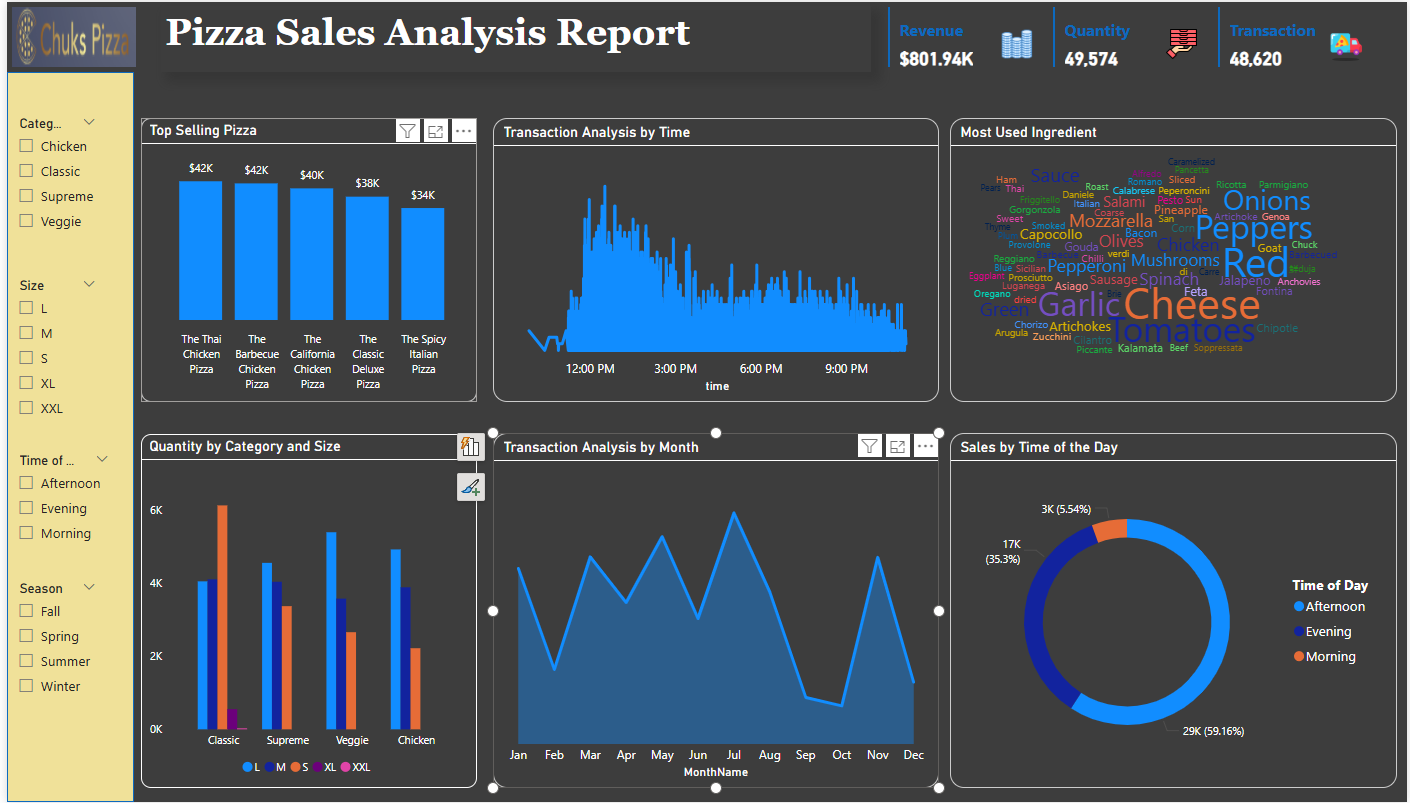

The dashboard page shown, as its layout file describes it:
{"tool":"powerbi","page":{"name":"Pizza","canvas":[1400,800],"ordinal":0},"visuals":[{"type":"shape","box":[0,69.7,127.3,730.3],"z":0},{"type":"cardVisual","fields":{"Data":["_measures.Revenue","_measures.Quantity","_measures.Transaction"]},"box":[875.8,0,499,69.7],"z":1000},{"type":"clusteredColumnChart","title":"Top Selling Pizza","fields":{"Y":["_measures.Revenue"],"Category":["Master.Pizza Name"]},"box":[134.3,116.2,335.4,283.8],"z":2000},{"type":"slicer","fields":{"Values":["Master.Category"]},"box":[0,109.1,101,146.5],"z":3000},{"type":"slicer","fields":{"Values":["Master.Size"]},"box":[0,270.7,101,161.6],"z":4000},{"type":"slicer","fields":{"Values":["Master.Time of Day"]},"box":[0,446.5,114.1,112.1],"z":5000},{"type":"slicer","fields":{"Values":["Master.Season"]},"box":[0,573.7,101,145.5],"z":6000},{"type":"lineChart","title":"Transaction Analysis by Time","fields":{"Y":["_measures.Transaction"],"Category":["Master.time"]},"box":[485.9,116.2,446.5,283.8],"z":7000},{"type":"clusteredColumnChart","fields":{"Category":["Master.Category"],"Y":["_measures.Quantity"],"Series":["Master.Size"]},"box":[134.3,432.3,335.4,353.5],"z":8000},{"type":"WordCloud1447959067750","title":"Most Used Ingredient","fields":{"Category":["Master.Ingredient"],"Values":["_measures.Transaction"]},"box":[943.4,116.2,446.5,283.8],"z":9000},{"type":"areaChart","title":"Transaction Analysis by Month","fields":{"Y":["_measures.Transaction"],"Category":["tbldate.MonthName"]},"box":[485.9,431.3,446.5,354.5],"z":10000},{"type":"donutChart","title":"Sales by Time of the Day","fields":{"Y":["_measures.Transaction"],"Category":["Master.Time of Day"]},"box":[943.4,431.3,446.5,354.5],"z":11000},{"type":"image","box":[0,0,134.3,69.7],"z":12000},{"type":"textbox","box":[153.5,4,710.1,65.7],"z":13000}]}

Visuals, with their boxes in screenshot pixels (x1, y1, x2, y2), scaled from the page's 1400x800 canvas onto the 1410x803 screenshot:
shape: left=0, top=70, right=128, bottom=802
cardVisual - _measures.Revenue x _measures.Quantity: left=882, top=0, right=1385, bottom=70
"Top Selling Pizza" clusteredColumnChart: left=135, top=117, right=473, bottom=401
slicer - Master.Category: left=0, top=110, right=102, bottom=257
slicer - Master.Size: left=0, top=272, right=102, bottom=434
slicer - Master.Time of Day: left=0, top=448, right=115, bottom=561
slicer - Master.Season: left=0, top=576, right=102, bottom=722
"Transaction Analysis by Time" lineChart: left=489, top=117, right=939, bottom=401
clusteredColumnChart - Master.Category x _measures.Quantity: left=135, top=434, right=473, bottom=789
"Most Used Ingredient" WordCloud1447959067750: left=950, top=117, right=1400, bottom=401
"Transaction Analysis by Month" areaChart: left=489, top=433, right=939, bottom=789
"Sales by Time of the Day" donutChart: left=950, top=433, right=1400, bottom=789
image: left=0, top=0, right=135, bottom=70
textbox: left=155, top=4, right=870, bottom=70
